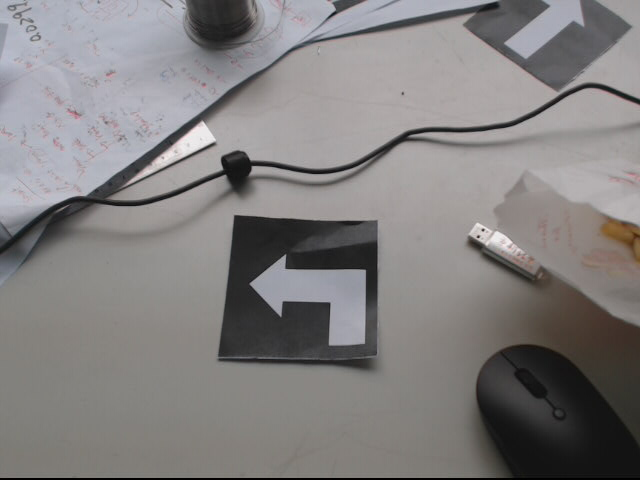left: (216, 213, 381, 362)
